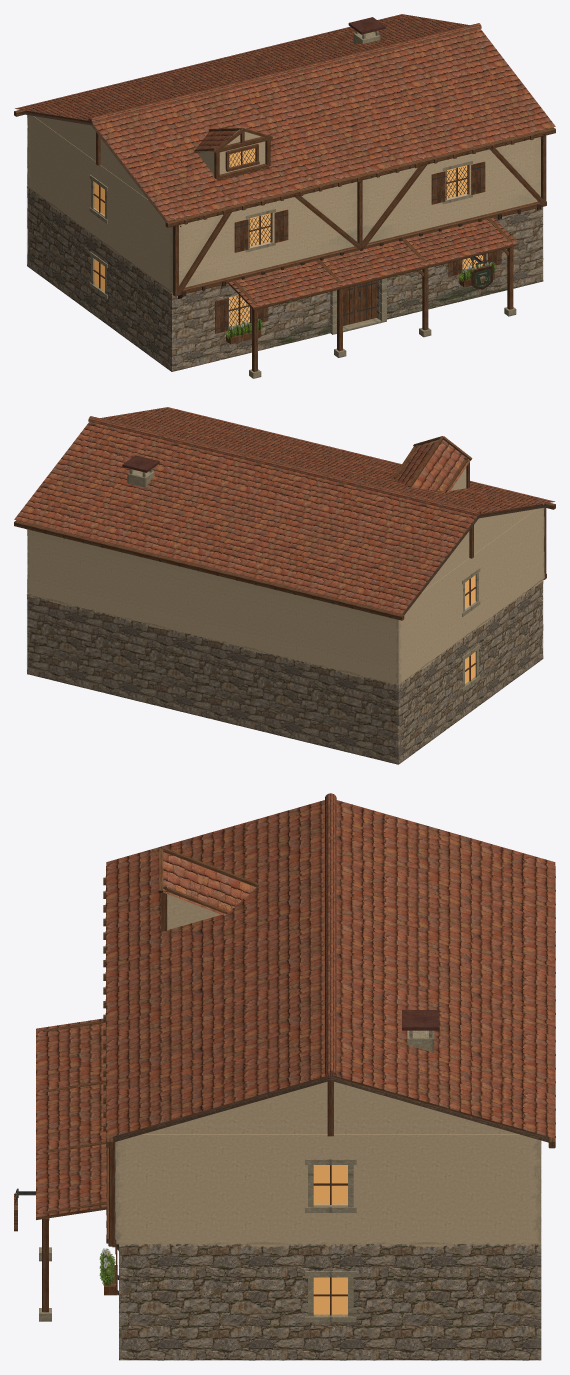
File: B02_posada.gltf
The picture shows the model from 3 angles, top to bottom: view 1: azimuth 30°, elevation 25°; view 2: azimuth 150°, elevation 25°; view 3: azimuth 270°, elevation 25°; orthographic projection. The views are drawn at different scales.
Visible parts, largest first — view 1: AUR034_B02_clay_tiles, AUR034_B02_upper_plaster, AUR034_B02_lower_masonry, AUR034_B02_fascia-1, B02_Rev3_sloped_porch_tiles, AUR034_B02_chimney, AUR034_B02_gable-1, AUR034_B02_side_window-1_0_glass, B02_Rev3_foundation_weathering, AUR034_B02_sign_arm, AUR034_B02_corbel0, B02_Rev3_arched_leaf_1 (+8 smaller); view 2: AUR034_B02_clay_tiles, AUR034_B02_lower_masonry, AUR034_B02_upper_plaster, AUR034_B02_fascia-1, AUR034_B02_gable-1, AUR034_B02_chimney, AUR034_B02_corbel0, B02_Rev3_plaster_stone_joint_wear, AUR034_B02_side_window-1_0_glass; view 3: AUR034_B02_clay_tiles, AUR034_B02_lower_masonry, AUR034_B02_upper_plaster, B02_Rev3_sloped_porch_tiles, AUR034_B02_gable-1, AUR034_B02_fascia-1, AUR034_B02_chimney, AUR034_B02_side_window-1_0_glass, AUR034_B02_corbel0, B02_Rev3_stone_joint_moss, B02_Rev3_plaster_stone_joint_wear, AUR034_B02_cowl (+1 smaller).
Boxes of the visible parts, x1,y1,x2,y2 form: AUR034_B02_clay_tiles: [15, 14, 555, 221]; AUR034_B02_upper_plaster: [27, 115, 540, 292]; AUR034_B02_lower_masonry: [27, 187, 543, 371]; AUR034_B02_fascia-1: [14, 109, 555, 371]; B02_Rev3_sloped_porch_tiles: [228, 217, 518, 309]; AUR034_B02_chimney: [89, 30, 516, 378]; AUR034_B02_gable-1: [34, 116, 265, 199]; AUR034_B02_side_window-1_0_glass: [94, 148, 483, 326]; B02_Rev3_foundation_weathering: [190, 281, 536, 358]; AUR034_B02_sign_arm: [229, 148, 487, 326]; AUR034_B02_corbel0: [17, 110, 552, 298]; B02_Rev3_arched_leaf_1: [354, 280, 376, 322]; AUR034_B02_clay_tiles: [14, 407, 554, 614]; AUR034_B02_lower_masonry: [27, 580, 543, 764]; AUR034_B02_upper_plaster: [27, 503, 544, 684]; AUR034_B02_fascia-1: [14, 436, 555, 620]; AUR034_B02_gable-1: [418, 440, 535, 592]; AUR034_B02_chimney: [127, 469, 480, 691]; AUR034_B02_corbel0: [17, 504, 553, 616]; B02_Rev3_plaster_stone_joint_wear: [26, 579, 543, 685]; AUR034_B02_side_window-1_0_glass: [465, 575, 475, 683]; AUR034_B02_clay_tiles: [106, 793, 555, 1138]; AUR034_B02_lower_masonry: [119, 1141, 541, 1360]; AUR034_B02_upper_plaster: [115, 1134, 540, 1244]; B02_Rev3_sloped_porch_tiles: [36, 1018, 106, 1219]; AUR034_B02_gable-1: [143, 894, 518, 1134]; AUR034_B02_fascia-1: [42, 846, 555, 1312]; AUR034_B02_chimney: [39, 1030, 434, 1322]; AUR034_B02_side_window-1_0_glass: [313, 1165, 347, 1314]; AUR034_B02_corbel0: [105, 876, 555, 1295]; B02_Rev3_stone_joint_moss: [131, 1244, 529, 1360]; B02_Rev3_plaster_stone_joint_wear: [115, 1242, 541, 1246]; AUR034_B02_cowl: [402, 1010, 439, 1030].
Size of the model in its own units: 16.02 by 8.36 by 13.22.
Materials: 19 (18 with a texture image).
